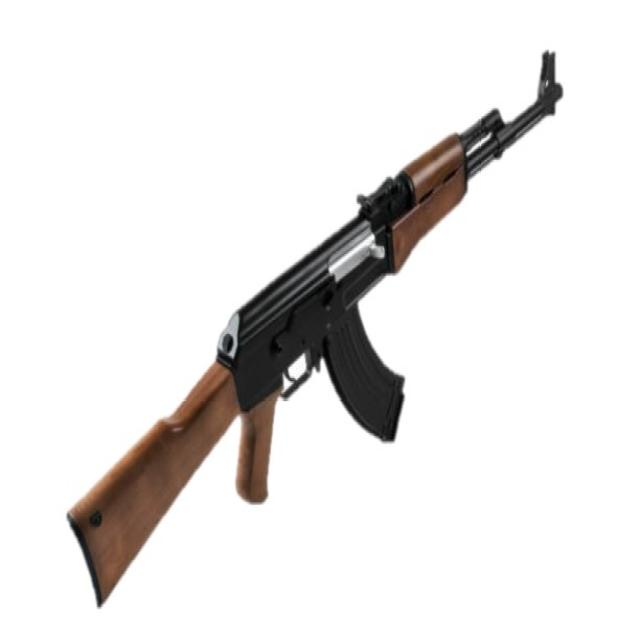rifle: (57, 48, 569, 616)
